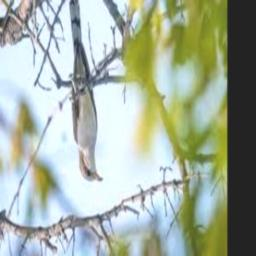Cuckoo: (69, 0, 104, 183)
